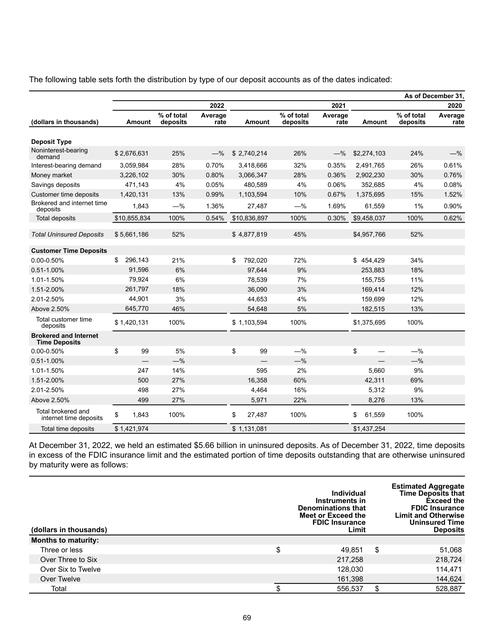box: (28, 88, 467, 435), (28, 473, 467, 596)
